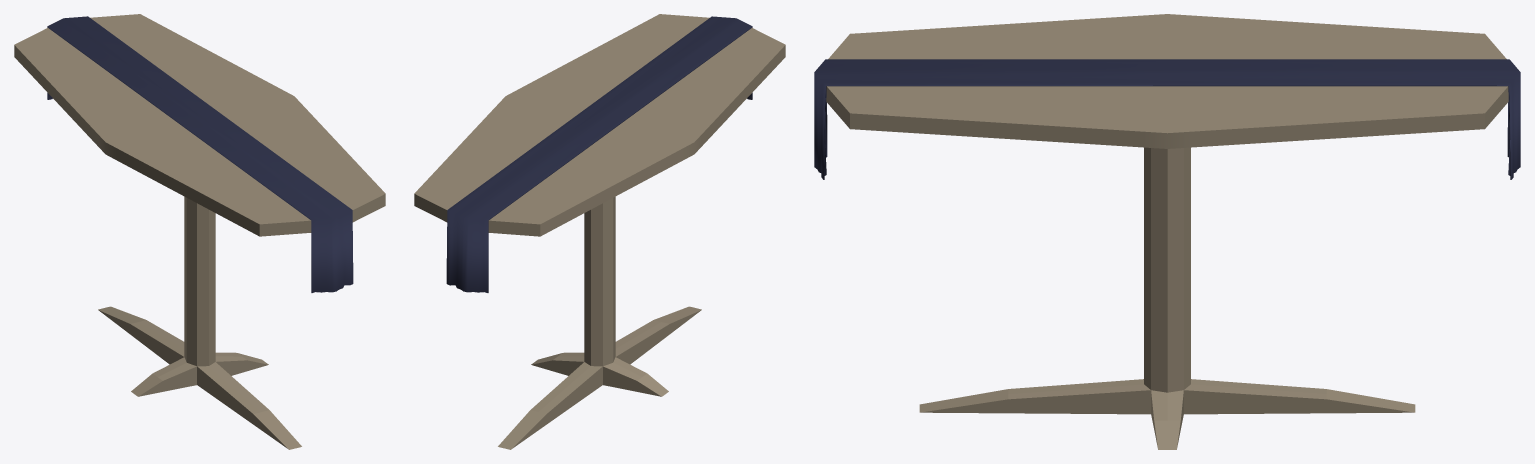
File: table_blueTableCloth.fbx
The picture shows the model from 3 angles, left to right: view 1: azimuth 30°, elevation 25°; view 2: azimuth 150°, elevation 25°; view 3: azimuth 270°, elevation 25°; orthographic projection. The views are drawn at different scales.
Visible parts, largest first — view 1: table, tableCloth; view 2: table, tableCloth; view 3: table, tableCloth.
Part boxes in pixels (box(x1,y1,x2,y2)): table: box(14, 14, 385, 449); tableCloth: box(47, 16, 353, 292); table: box(414, 14, 785, 449); tableCloth: box(446, 16, 752, 292); table: box(826, 14, 1508, 449); tableCloth: box(814, 59, 1520, 179).
Bounding box in the file's own units: 61.07 × 80.35 × 153.
